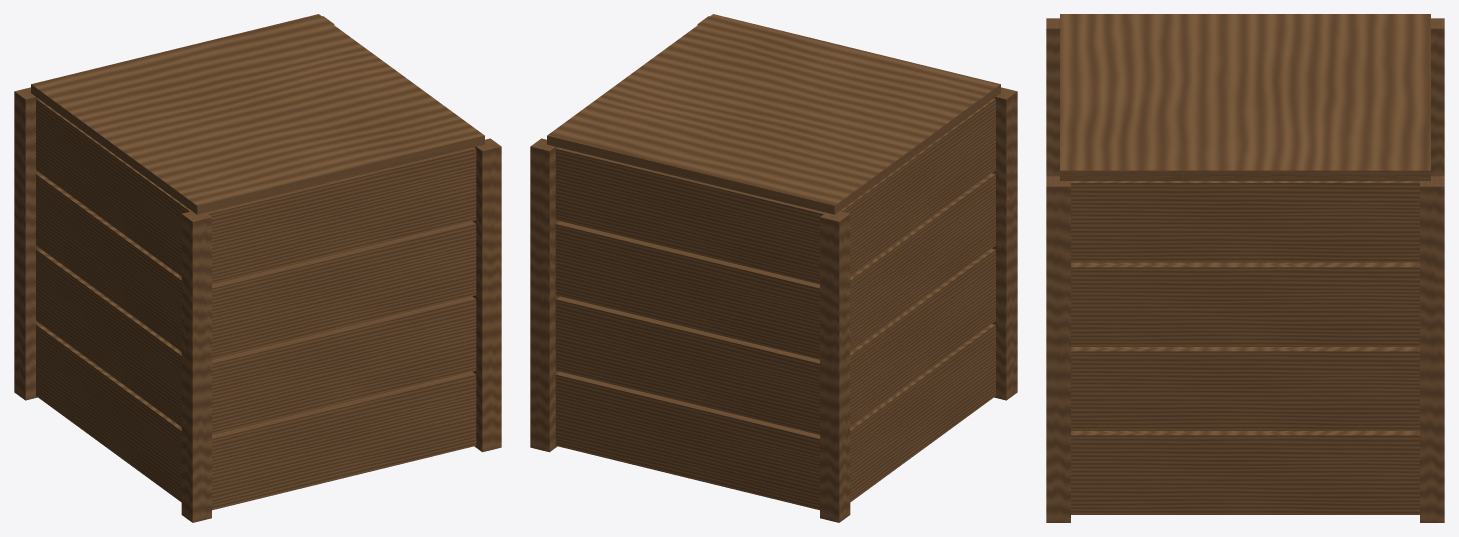
The model's file is crate_L3.glb.
The picture shows the model from 3 angles, left to right: view 1: azimuth 30°, elevation 25°; view 2: azimuth 150°, elevation 25°; view 3: azimuth 270°, elevation 25°; orthographic projection. The views are drawn at different scales.
Parts seen in each view (by area): view 1: crate:plank; view 2: crate:plank; view 3: crate:plank.
Part boxes in pixels (box(x1,y1,x2,y2)): crate:plank: box(14, 14, 501, 522); crate:plank: box(530, 14, 1017, 522); crate:plank: box(1046, 14, 1444, 522).
Bounding box in the file's own units: 0.644 × 0.618 × 0.644.
Materials: 1 (1 with a texture image).
